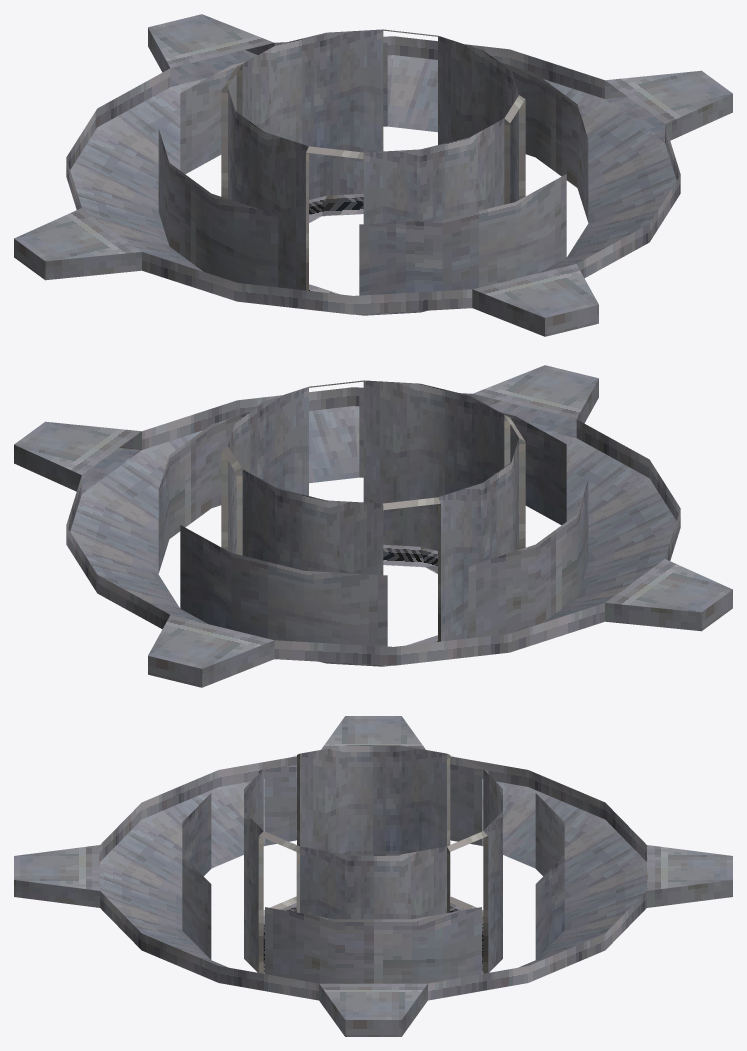
The model's file is ship_component_droidinterface_s02_l2.fbx.
The picture shows the model from 3 angles, top to bottom: view 1: azimuth 30°, elevation 25°; view 2: azimuth 150°, elevation 25°; view 3: azimuth 270°, elevation 25°; orthographic projection. The views are drawn at different scales.
Parts seen in each view (by area): view 1: mesh_node; view 2: mesh_node; view 3: mesh_node.
Boxes of the visible parts, x1=… form: mesh_node: x1=14, y1=14, x2=732, y2=336; mesh_node: x1=14, y1=365, x2=732, y2=687; mesh_node: x1=14, y1=716, x2=732, y2=1036.
Bounding box in the file's own units: 0.4898 × 0.1161 × 0.4898.
Materials: 1 (1 with a texture image).
